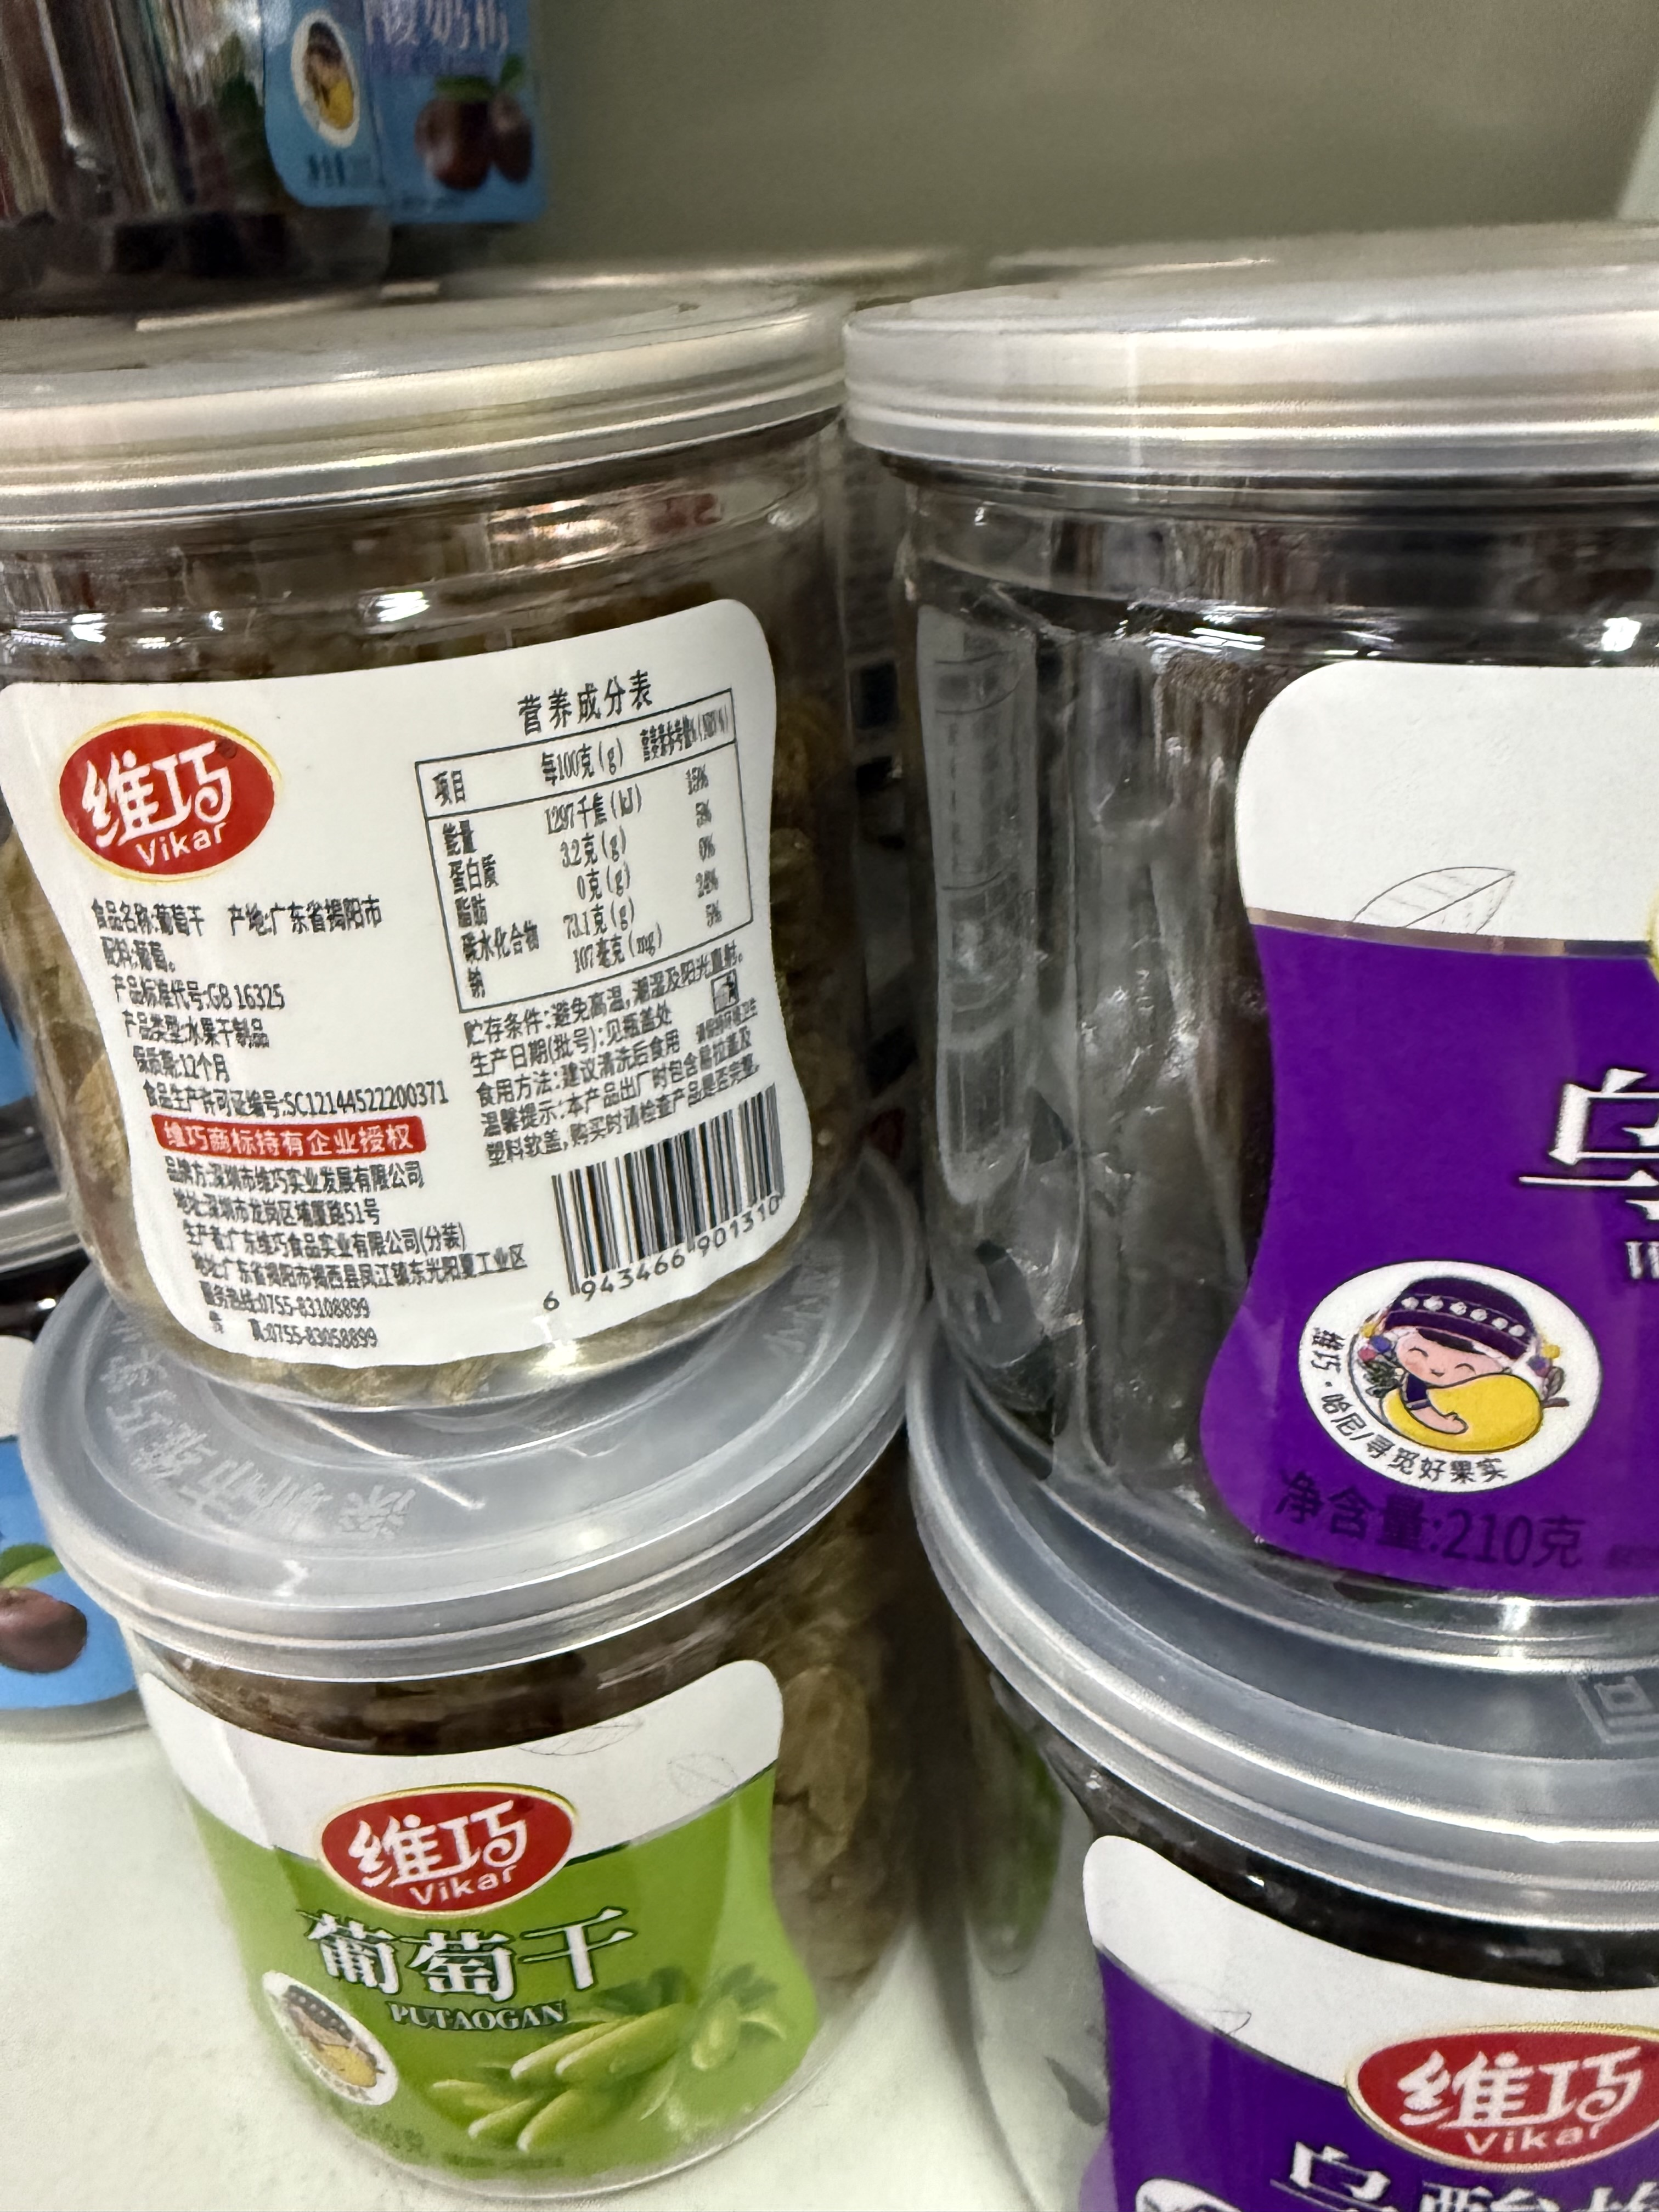bar: (544, 1080, 793, 1296)
